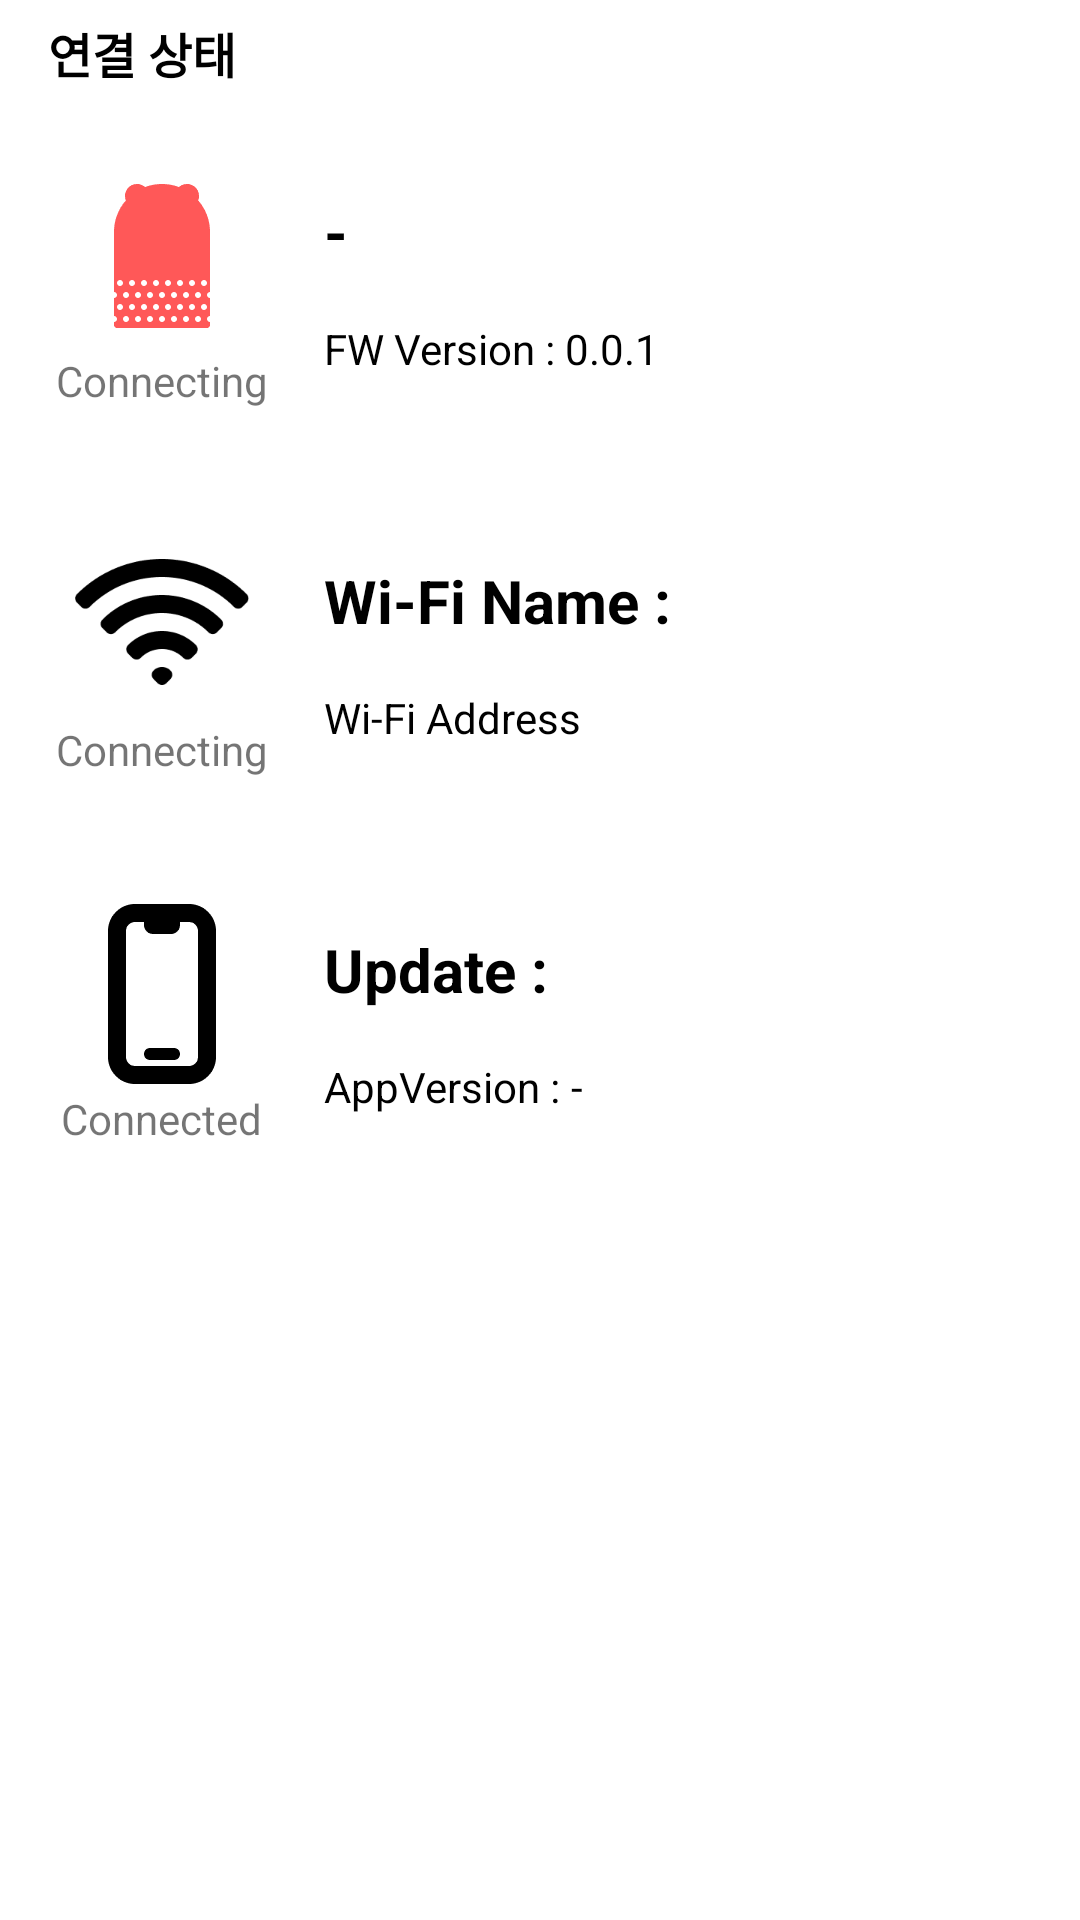

Named icons in this screenshot (1080w x 1920h) and their bounding boxes, (x1, y1, x2, y2):
aispeaker: (114, 184, 210, 328)
mobile: (108, 904, 216, 1084)
